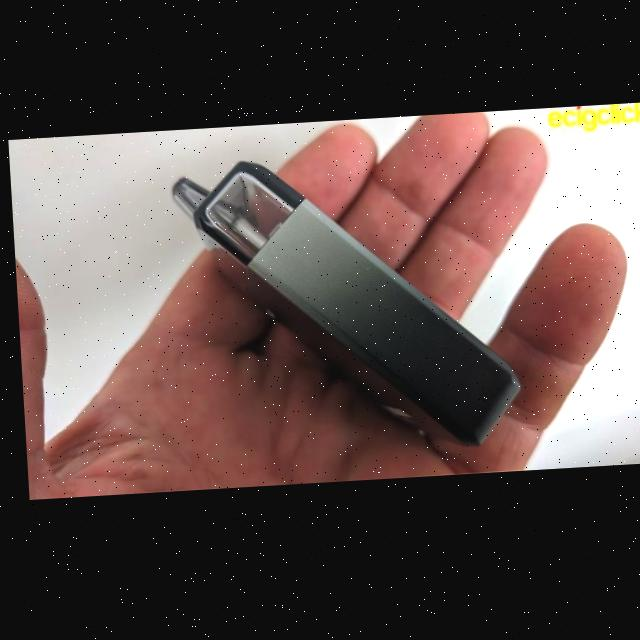vape: (167, 149, 519, 471)
